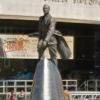Statue: (28, 2, 74, 89)
